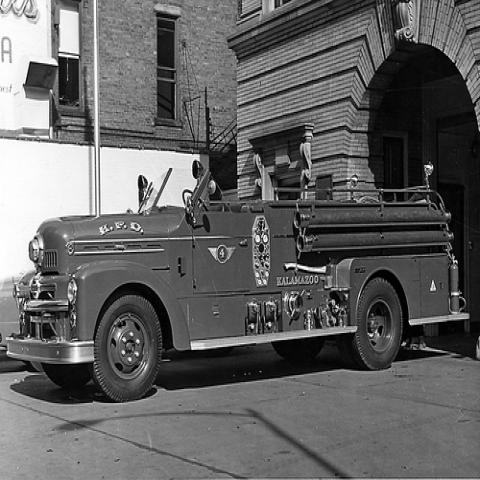truck: (5, 159, 468, 403)
